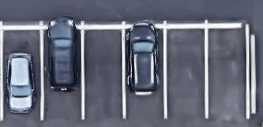Occupied: (123, 27, 165, 120), (1, 28, 42, 121), (42, 27, 83, 120)
Vacant: (165, 27, 207, 119), (207, 27, 248, 119), (83, 27, 123, 119)
